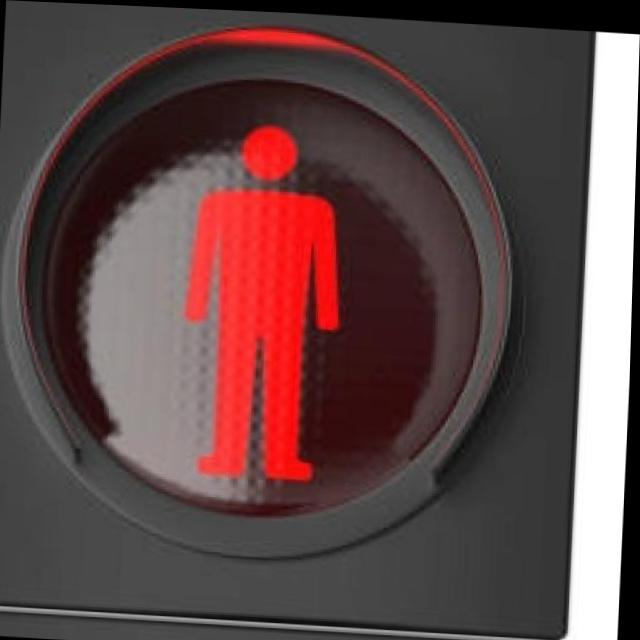red_light: (155, 98, 368, 502)
